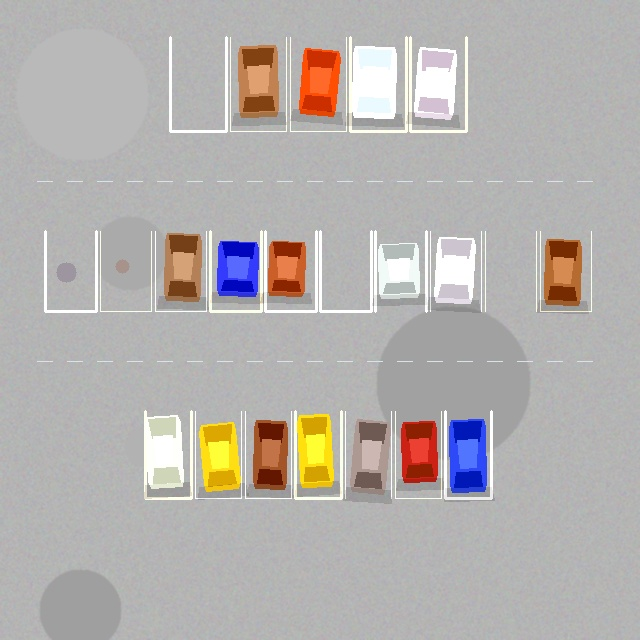space-empty: (170, 37, 226, 131), (45, 231, 96, 311), (100, 231, 151, 311), (320, 231, 371, 311), (485, 231, 536, 311)
space-occupied: (230, 37, 286, 131), (290, 37, 346, 131), (350, 37, 406, 131), (410, 37, 466, 131), (155, 231, 206, 311), (210, 231, 261, 311), (265, 231, 316, 311), (375, 231, 426, 311), (430, 231, 481, 311), (540, 231, 591, 311), (145, 411, 191, 498), (195, 411, 241, 498), (245, 411, 291, 498), (295, 411, 341, 498), (345, 411, 391, 498), (395, 411, 441, 498), (445, 411, 491, 498)
